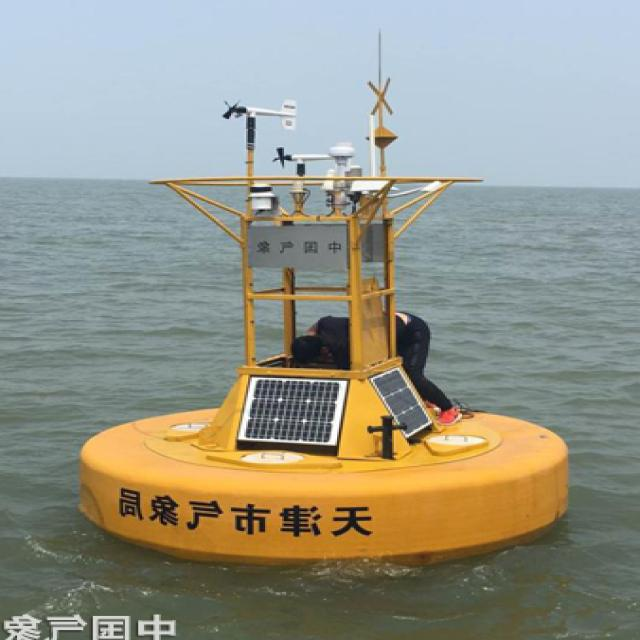buoy: (77, 56, 595, 555)
